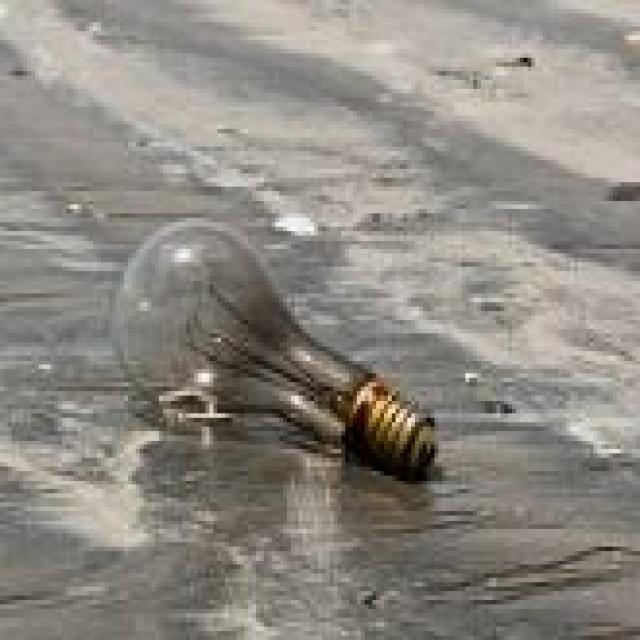electronic: (109, 213, 438, 480)
